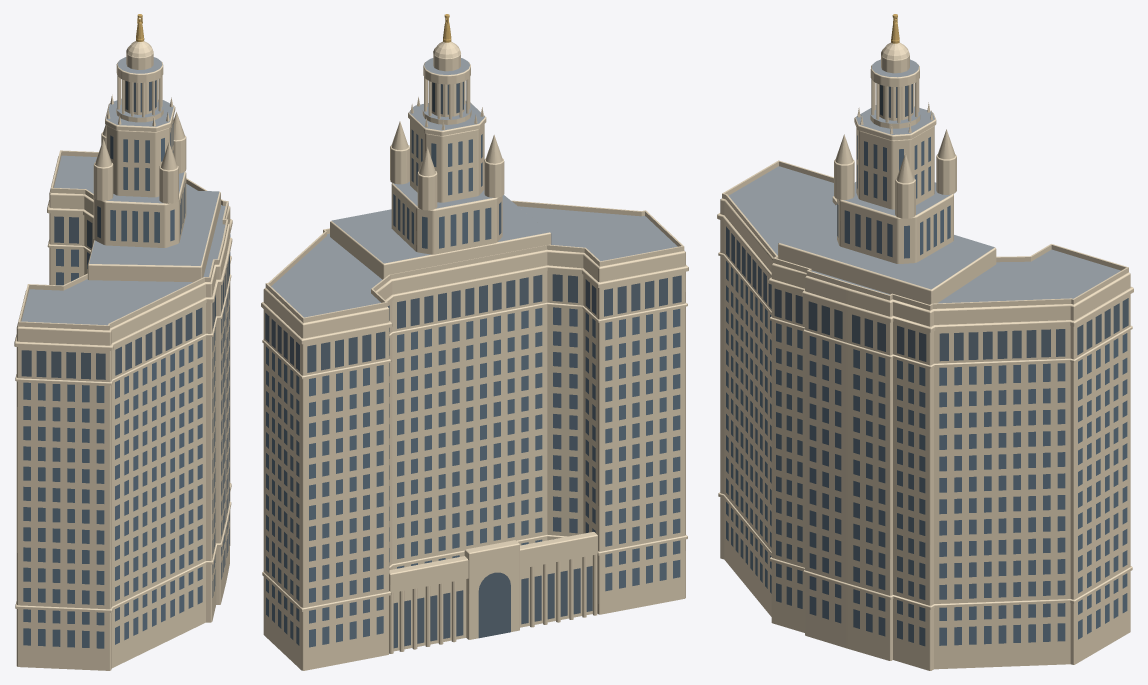
The picture shows the model from 3 angles, left to right: view 1: azimuth 30°, elevation 25°; view 2: azimuth 150°, elevation 25°; view 3: azimuth 270°, elevation 25°; orthographic projection. The views are drawn at different scales.
Visible parts, largest first — view 1: david-n-dinkins-municipal-building; view 2: david-n-dinkins-municipal-building; view 3: david-n-dinkins-municipal-building.
Part boxes in pixels (box(x1,y1,x2,y2)): david-n-dinkins-municipal-building: box(14, 14, 232, 670); david-n-dinkins-municipal-building: box(261, 14, 688, 670); david-n-dinkins-municipal-building: box(717, 14, 1133, 670).
Bounding box in the file's own units: 96.37 × 180 × 113.
